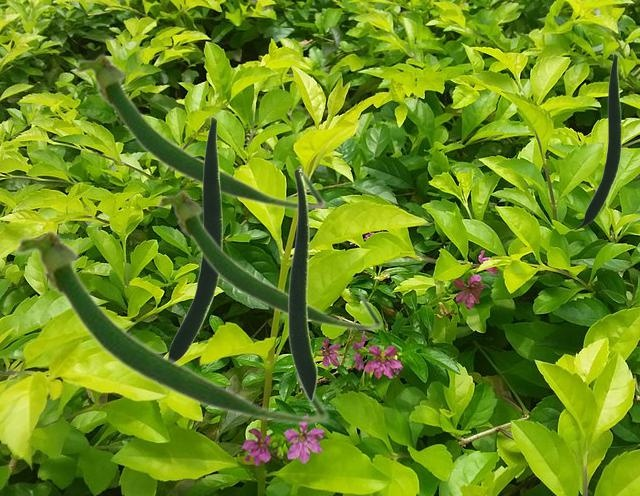french_bean: (12, 226, 330, 426), (72, 51, 326, 211), (155, 188, 383, 331), (168, 116, 221, 359), (572, 53, 620, 229), (287, 165, 317, 401)
